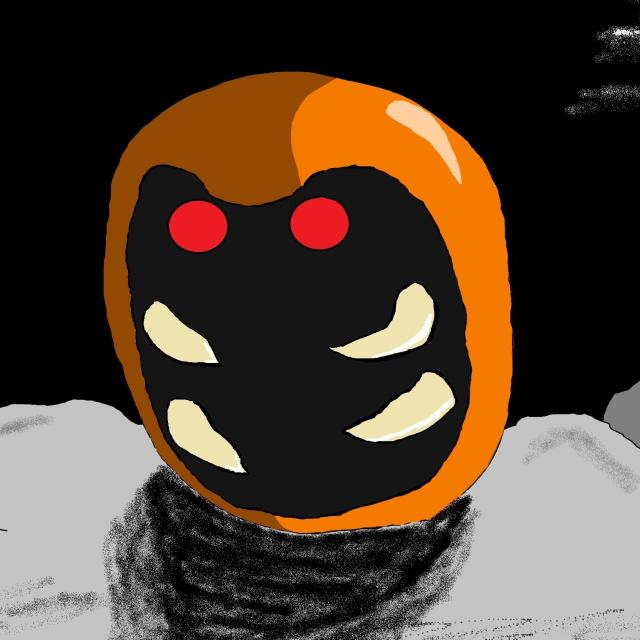Kabuto: (97, 65, 521, 546)
